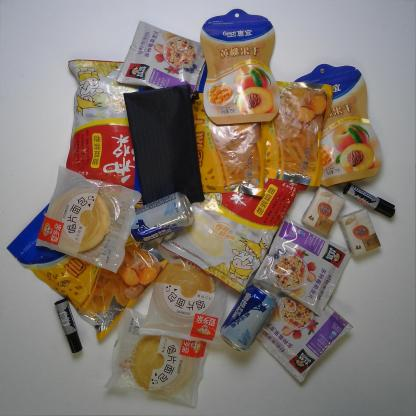Alcohol: (218, 282, 278, 355), (127, 190, 197, 245)
Dessert: (34, 162, 144, 277), (100, 303, 211, 411), (136, 250, 226, 353)
Dried Fruit: (3, 200, 170, 346), (290, 60, 384, 188), (198, 7, 284, 127), (177, 90, 269, 201), (260, 77, 336, 190)
Instant Drink: (157, 178, 299, 298), (62, 57, 149, 208), (252, 214, 353, 319), (252, 295, 354, 386), (115, 19, 206, 101)
Stationery: (121, 83, 206, 204), (340, 182, 398, 221), (51, 295, 86, 356)
Tissue: (336, 207, 384, 262), (299, 184, 347, 237)
